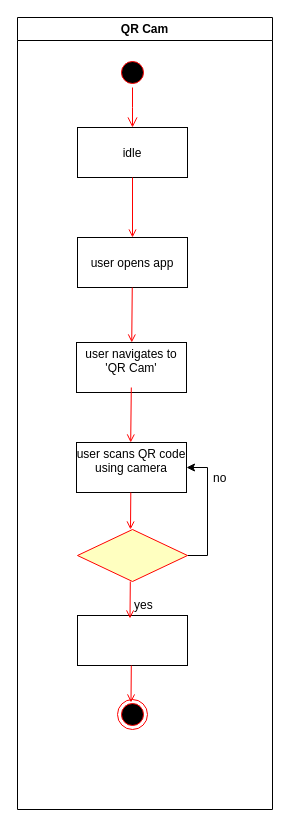
The diagram is 290 pixels wide and 827 high, and some of its shapes have lost their labels. The centre of each missing label's shape, as x and y in pixels:
Display content: pixel 132 640
QR code found: pixel 132 555
